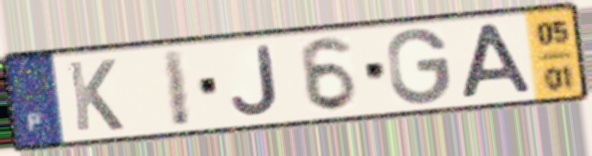6: (297, 34, 360, 114)
A: (458, 20, 537, 102)
G: (384, 26, 454, 108)
I: (159, 46, 195, 131)
J: (229, 44, 282, 118)
K: (64, 56, 127, 134)
